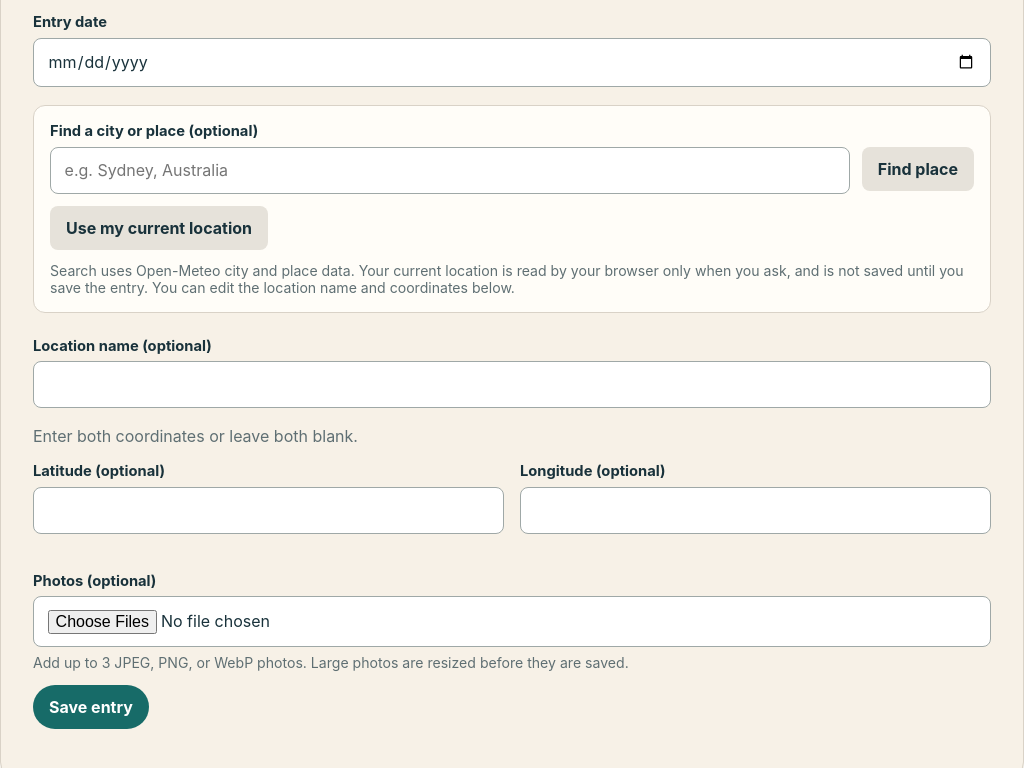
current location in diary forms › fills rounded coordinates and keeps the typed location name
(page scrolled)
Type "Circular Quay" into the field labelled "Location name (optional)" at (512, 384), box 33,361 -> 991,408
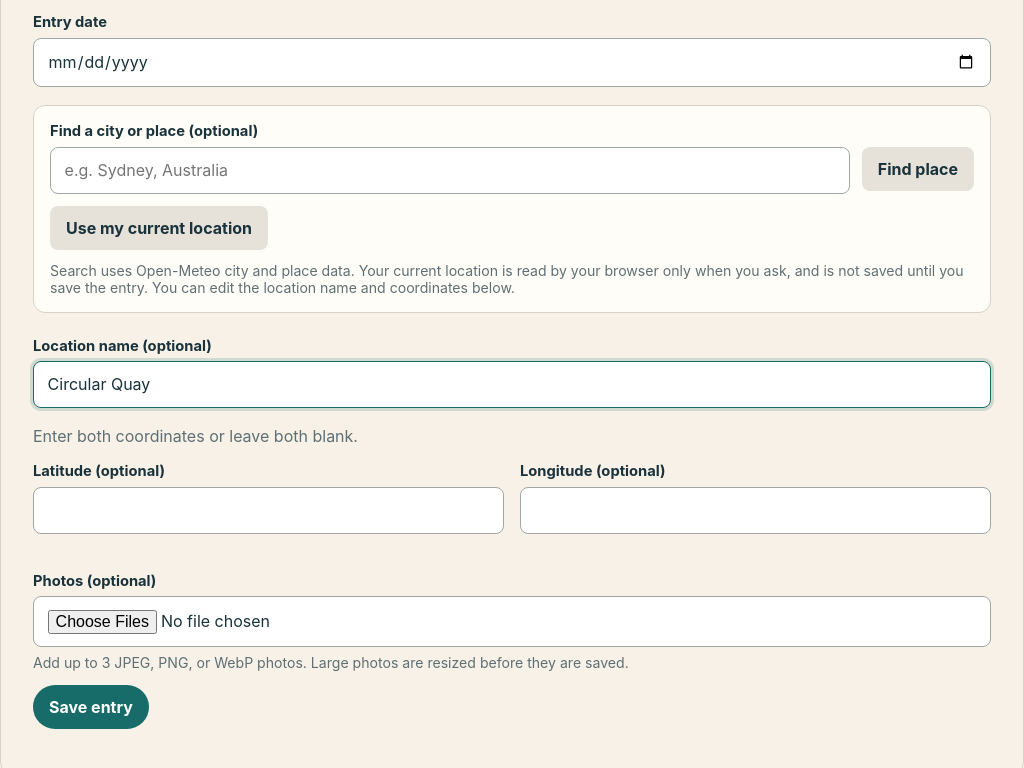
Click the button "Use my current location" at (159, 228), box 50,206 -> 268,250
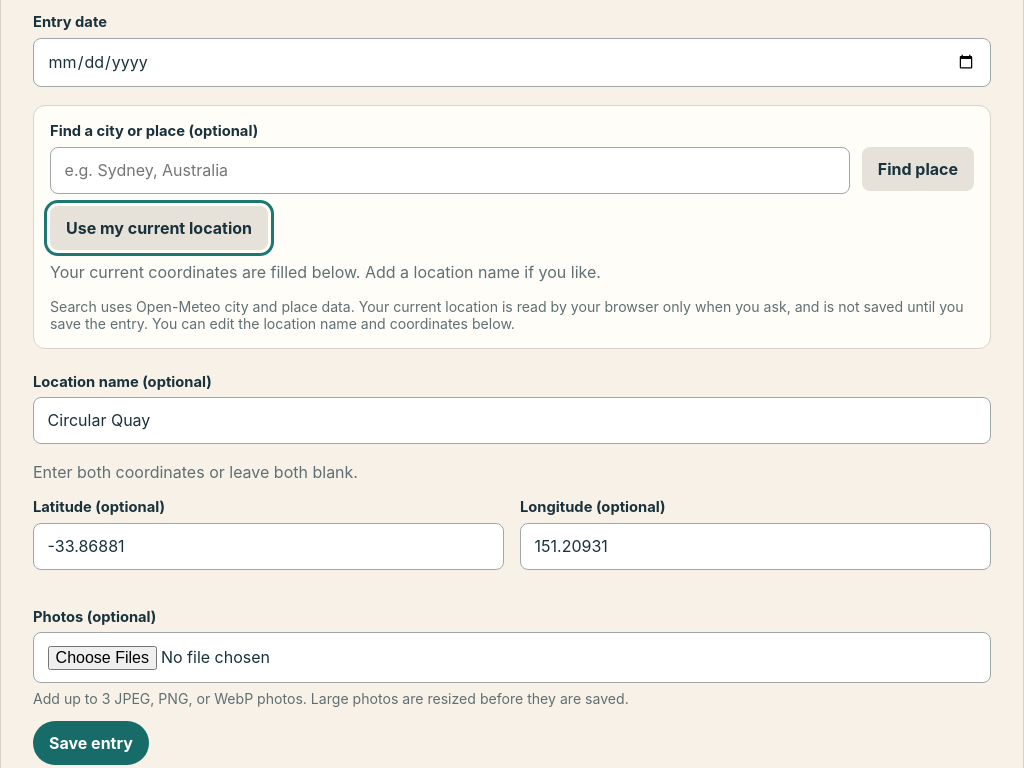
Expected: the number field labelled "Latitude (optional)" holds "-33.86881", 33,523 -> 504,570
Expected: the number field labelled "Longitude (optional)" holds "151.20931", 520,523 -> 991,570
Expected: the text "Your current coordinates are filled below. Add a location name if you like." is shown, 50,262 -> 601,282
